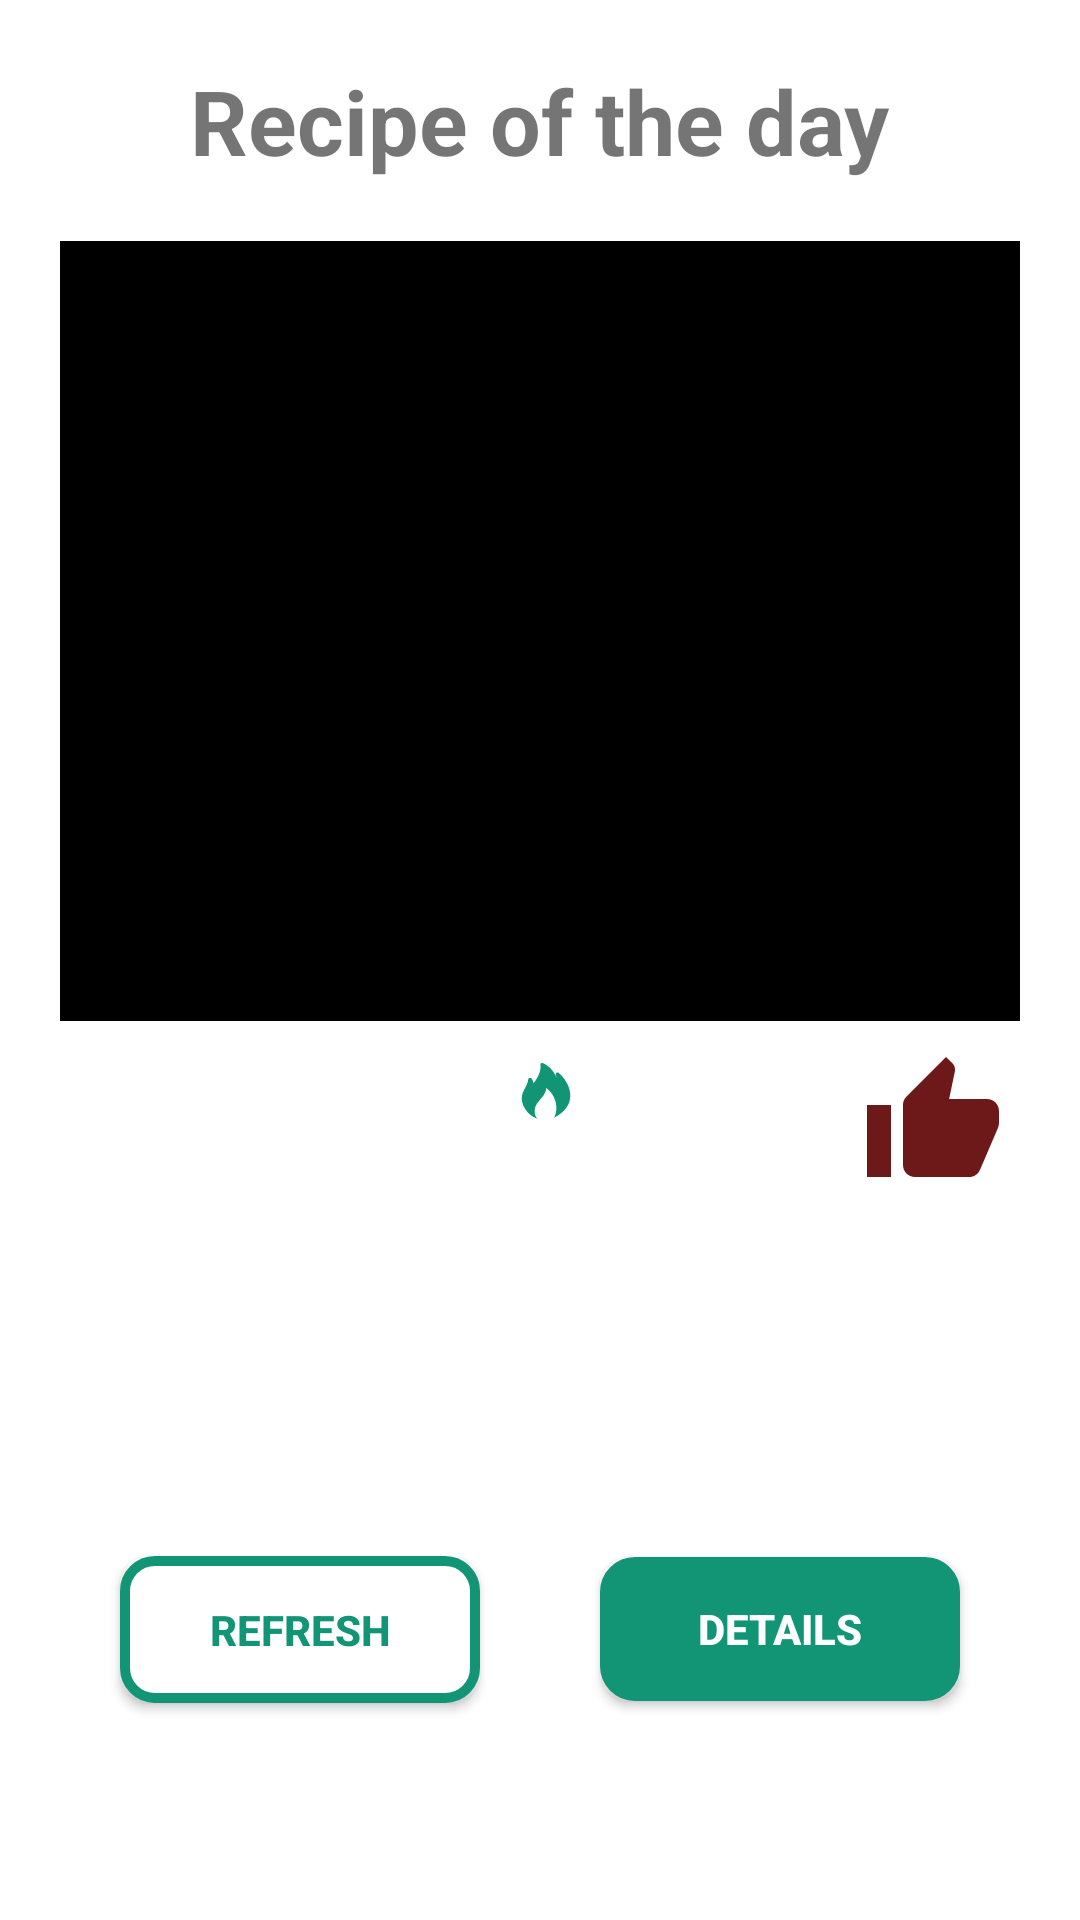

Screen size 1080px x 1920px. Icon name, then its box in pixels as (x1, y1, x2, y2):
click to like or dislike: (867, 1057, 999, 1177)
